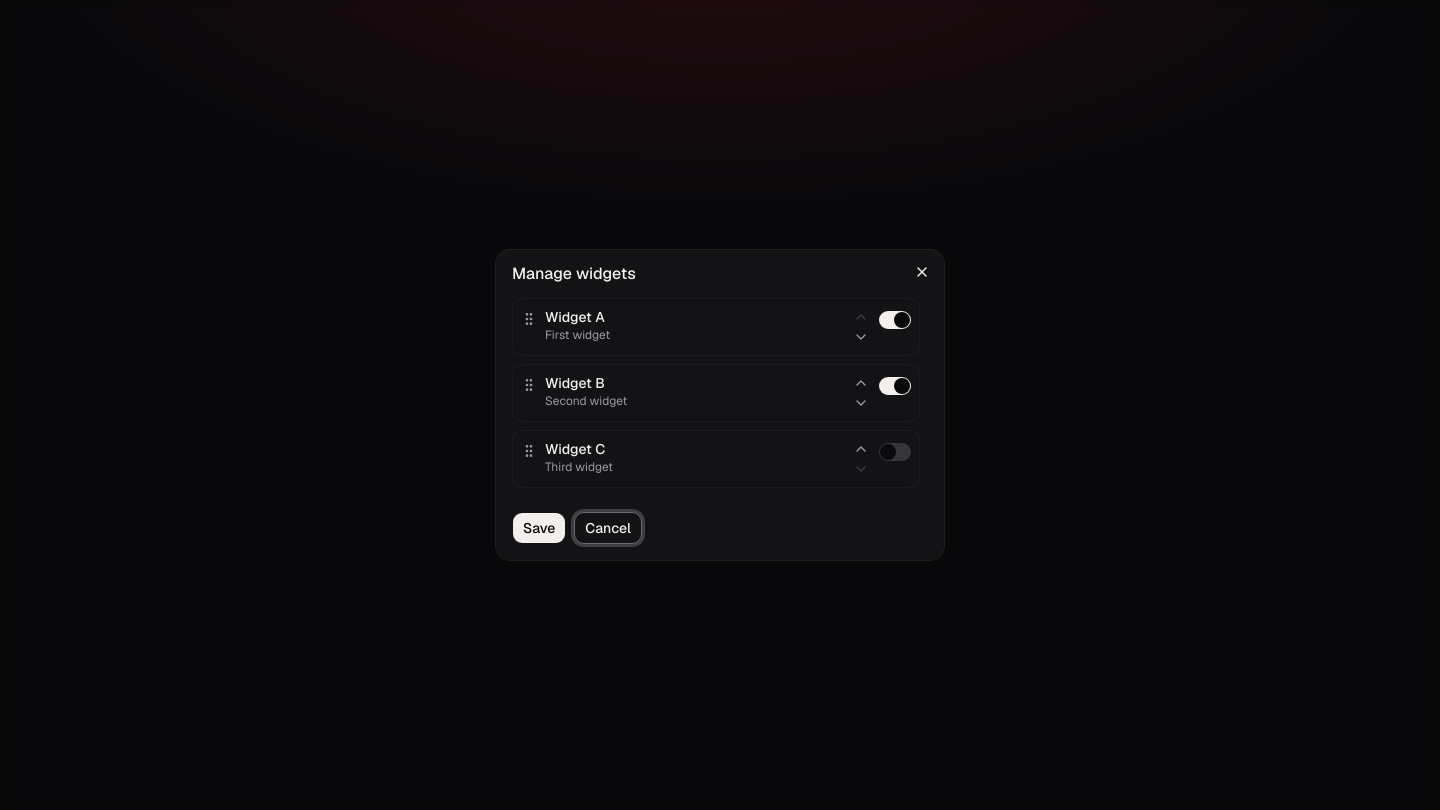
Test: WidgetManagerDialog (WIDGET-02) › a save failure shows the server's own message and does not close the dialog
The width and height of the screenshot is (1440, 810).
Expected: the text "Widget A" is shown, [545,308,605,326]
Click the button "Save" at (539, 528), box [512,512,566,544]
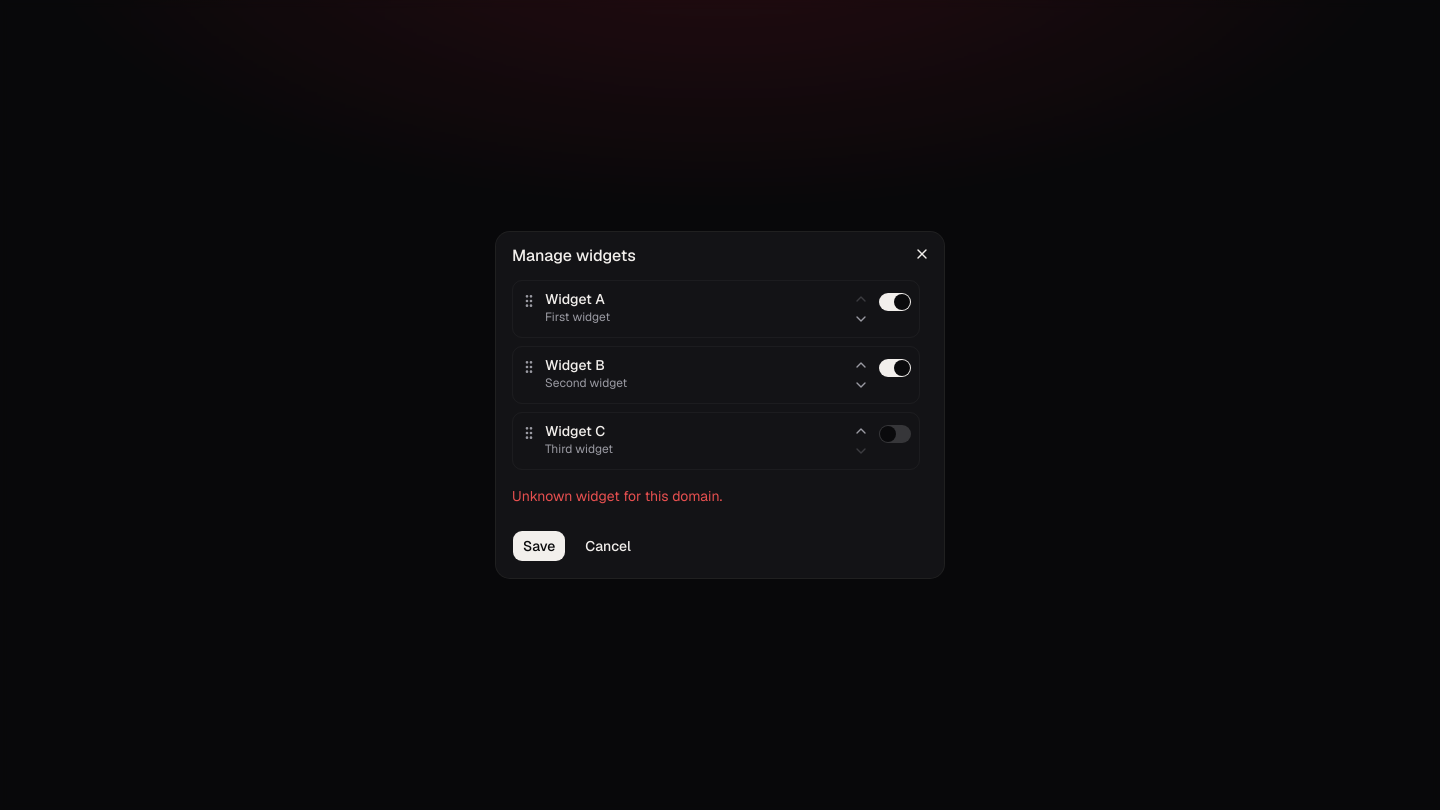
Now the text "Unknown widget for this domain." is shown, box [512,487,722,505]
